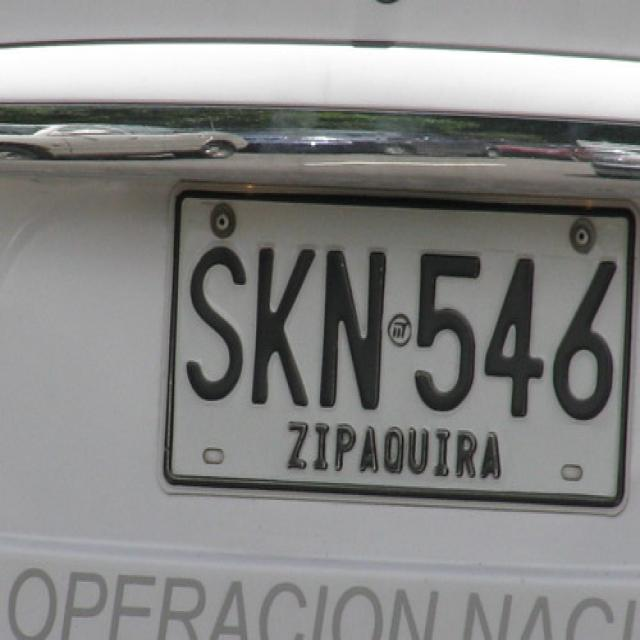placas: (175, 225, 630, 440)
